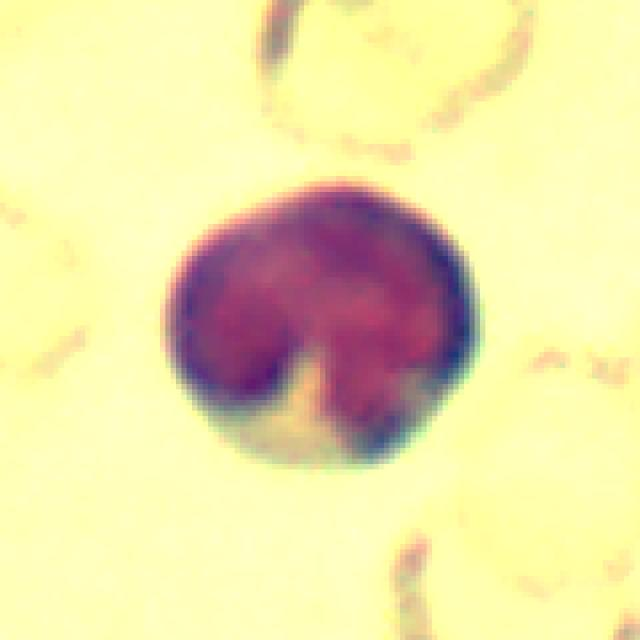WBC: (160, 165, 491, 486)
